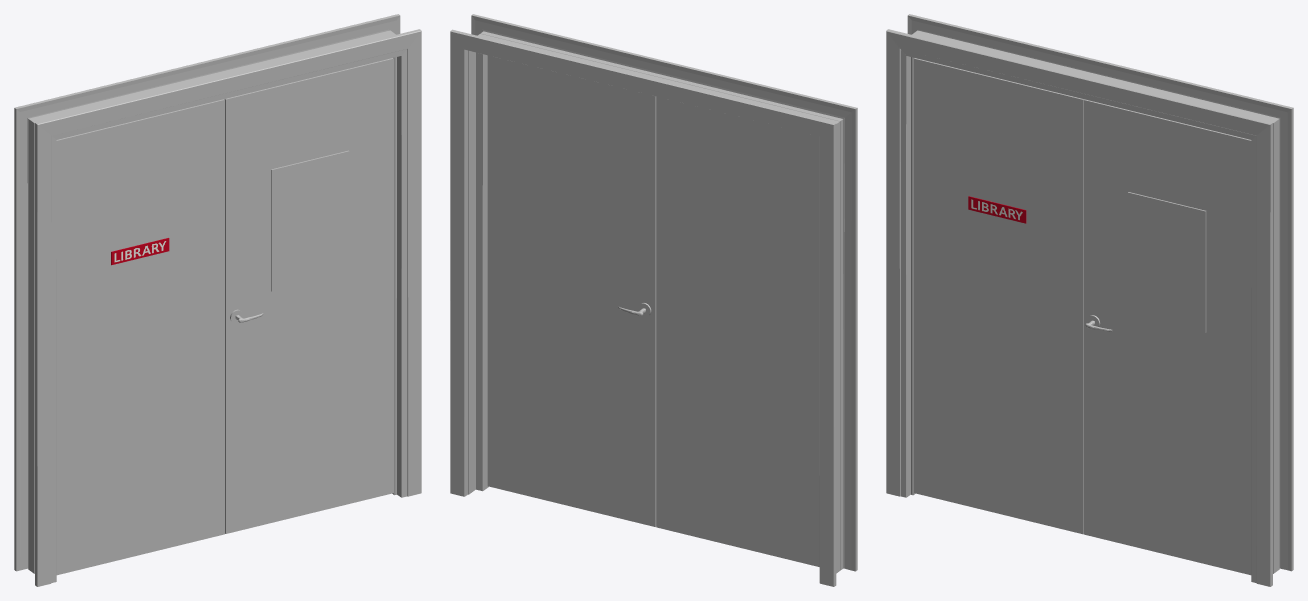
The model's file is Door 3.FBX.
The picture shows the model from 3 angles, left to right: view 1: azimuth 30°, elevation 25°; view 2: azimuth 150°, elevation 25°; view 3: azimuth 330°, elevation 25°; orthographic projection.
Visible parts, largest first — view 1: door 2, door 1, frame door, Picture 2, Picture 1; view 2: door 1, door 2, frame door; view 3: door 2, door 1, frame door, Picture 2, Picture 1.
Boxes of the visible parts, left/top/right/bottom form: door 2: left=56, top=99, right=224, bottom=575; door 1: left=224, top=58, right=393, bottom=533; frame door: left=14, top=14, right=421, bottom=586; Picture 2: left=271, top=150, right=349, bottom=291; Picture 1: left=111, top=238, right=169, bottom=265; door 1: left=487, top=55, right=656, bottom=526; door 2: left=656, top=96, right=819, bottom=566; frame door: left=450, top=14, right=857, bottom=586; door 2: left=914, top=58, right=1083, bottom=534; door 1: left=1083, top=99, right=1251, bottom=575; frame door: left=886, top=14, right=1293, bottom=586; Picture 2: left=1127, top=192, right=1206, bottom=332; Picture 1: left=968, top=196, right=1026, bottom=223.
Bounding box in the file's own units: 184 × 21.28 × 212.
